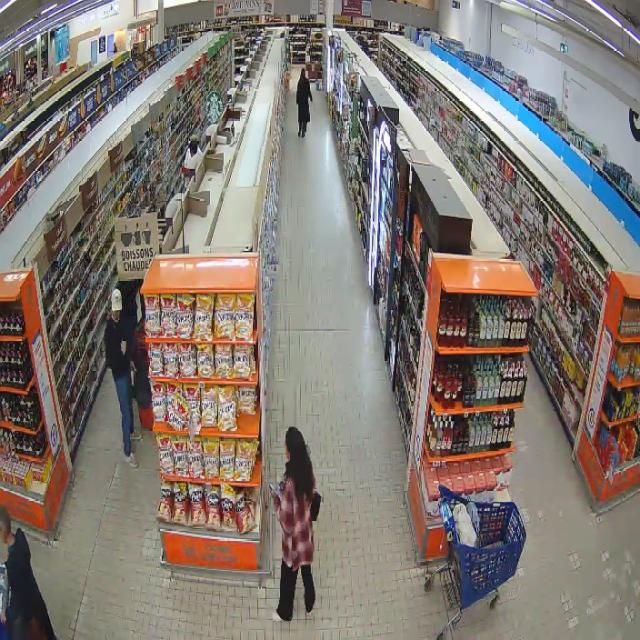article: (270, 481, 281, 494)
bags: (310, 492, 322, 521)
hands: (121, 341, 127, 354), (131, 361, 137, 373), (0, 612, 6, 624), (270, 487, 275, 496)
person: (273, 427, 315, 621), (0, 506, 55, 639), (105, 289, 141, 467), (297, 69, 312, 137)
